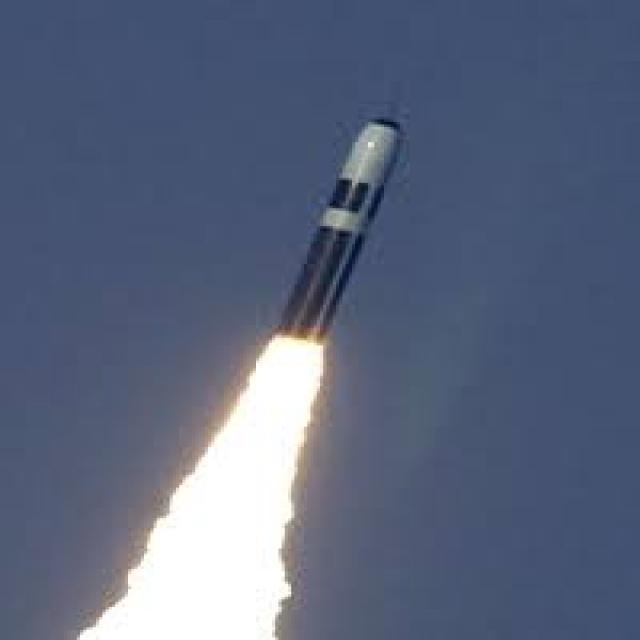missile: (274, 118, 406, 343)
